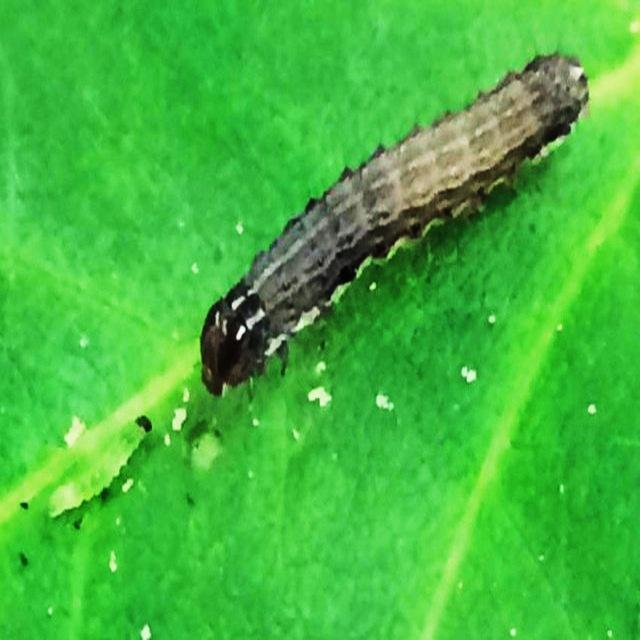gusano_cogollero: (198, 53, 590, 385)
